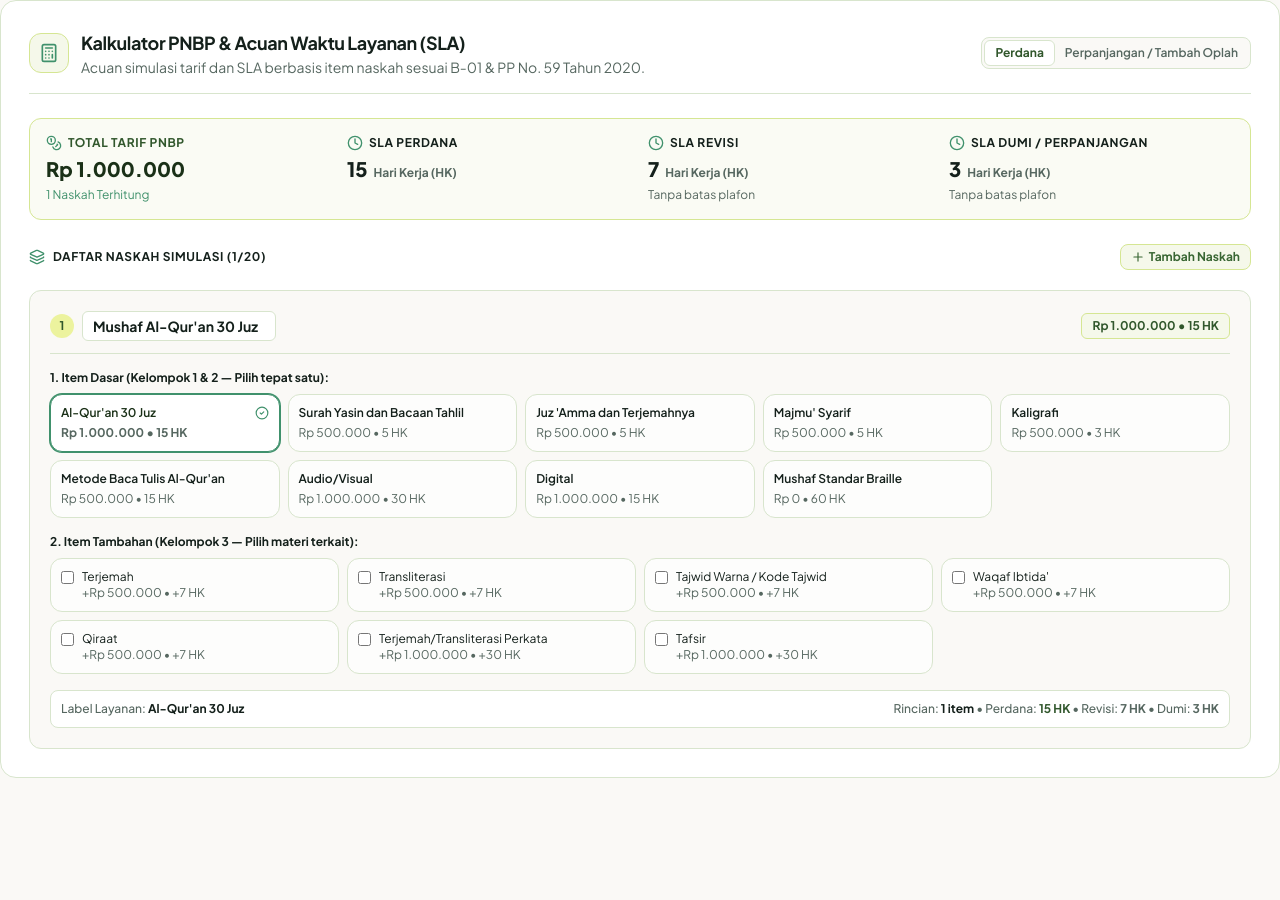
Test case: B-01 Sesi 3: Verifier Workbench Calculator Tab (U-14) › B-01 CALC-4: Menghitung T6 & T5 Plafon - SLA perdana dibatasi maksimal 60 HK
Click the checkbox labelled "Tafsir" at (662, 640), box [655,633,668,646]
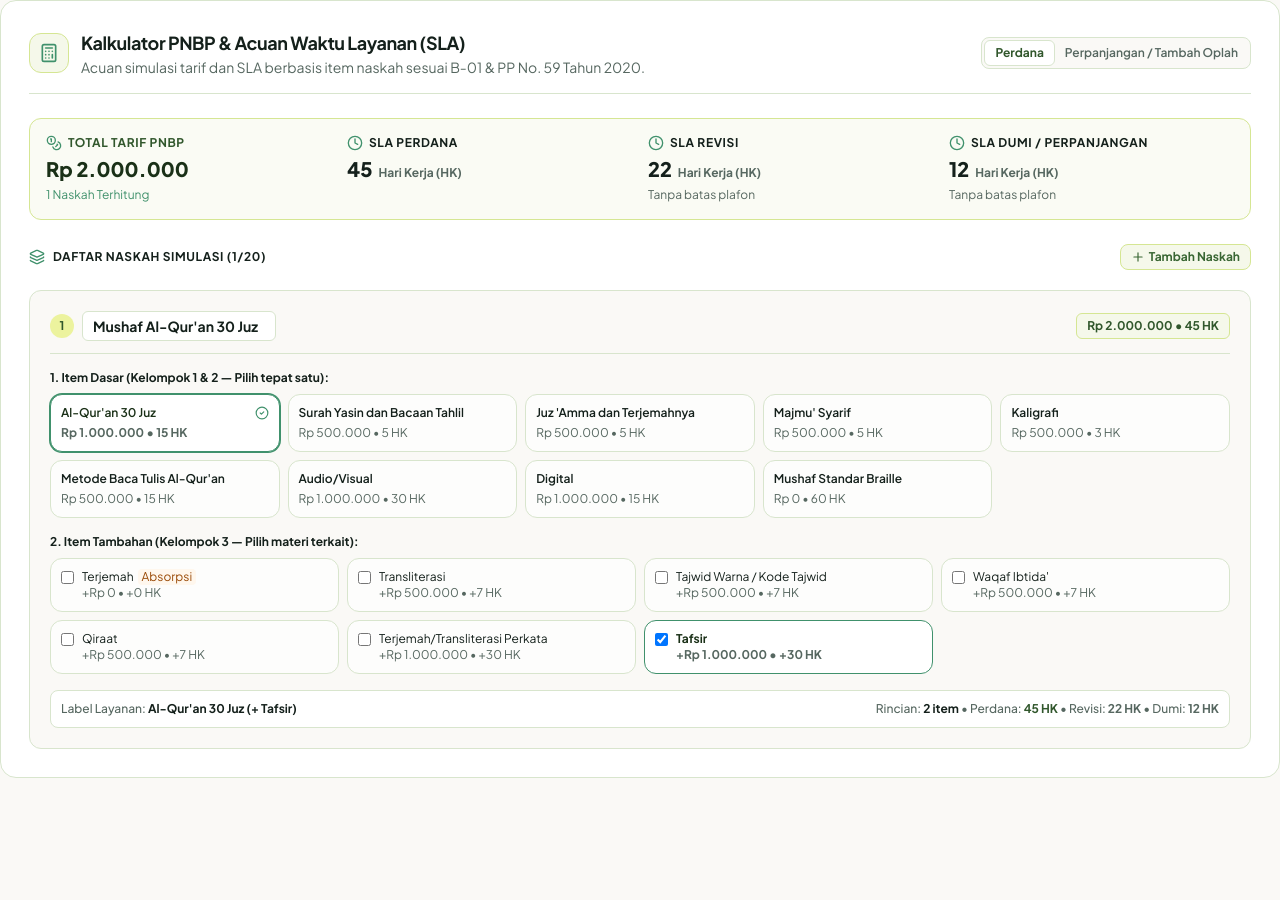
Click the checkbox labelled "Terjemah/Transliterasi Perkata" at (364, 640), box [358,633,371,646]
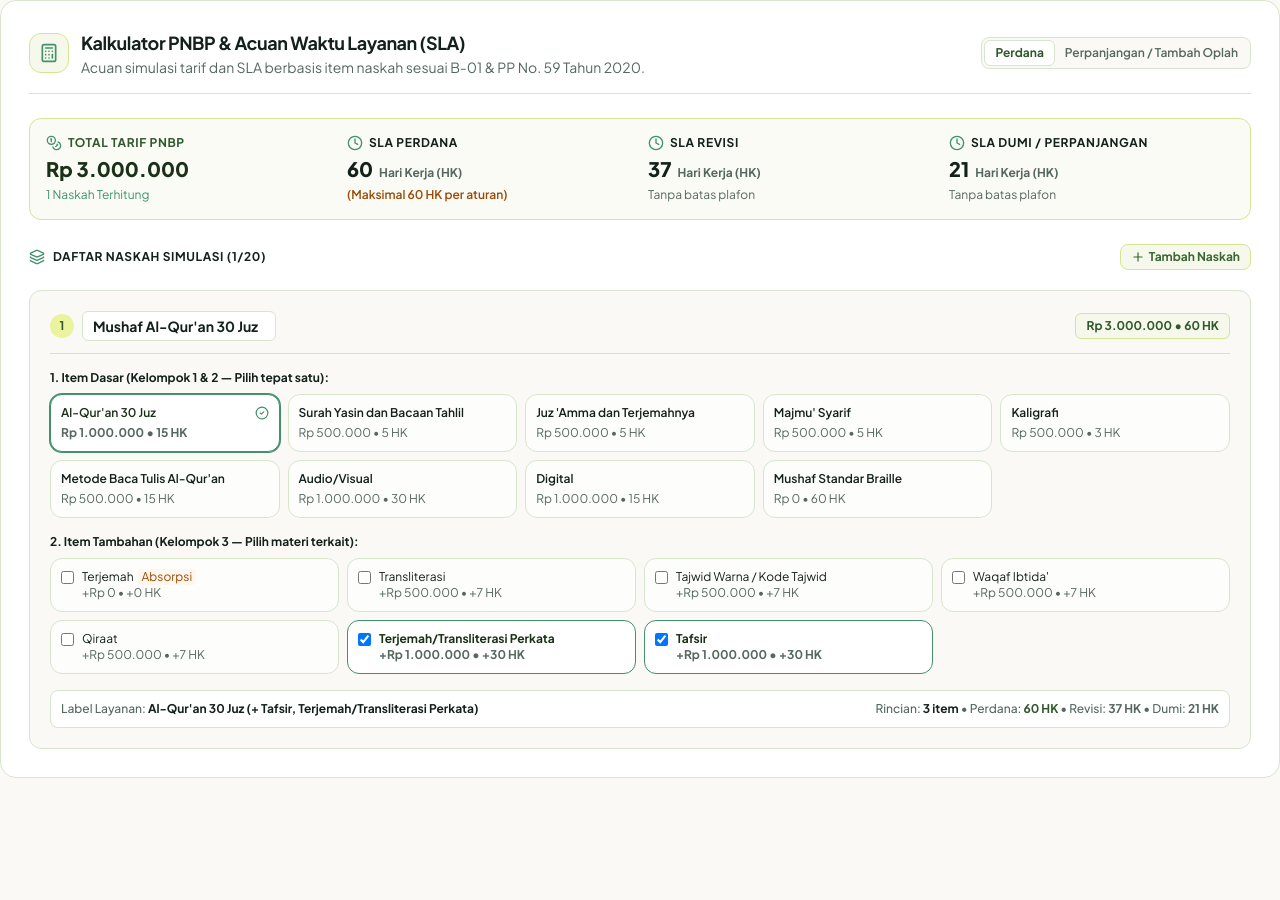
Expected: the text with test id "summary-sla-initial" reads "60", [347,156,373,181]
Expected: the text "(Maksimal 60 HK per aturan)" is shown, [347,187,508,202]
Expected: the text with test id "summary-sla-revision" reads "37", [648,156,672,181]
